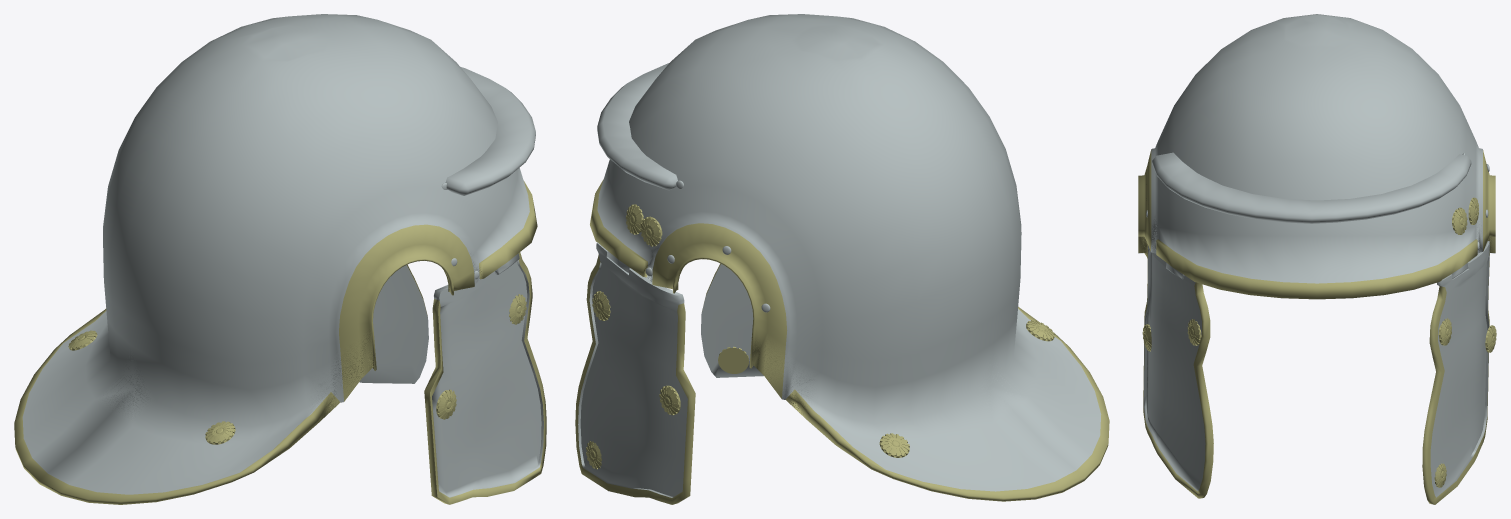
Rendered from romanHelmet.fbx.
3 renders of one model, left to right at view 1: azimuth 30°, elevation 25°; view 2: azimuth 150°, elevation 25°; view 3: azimuth 270°, elevation 25°, orthographic. The views are drawn at different scales.
Parts seen in each view (by area): view 1: Sphere, Cube, Sphere.001, Circle.003; view 2: Sphere, Cube, Sphere.001, Circle.002, Circle.003; view 3: Sphere, Cube, Sphere.001, Circle.001, Circle.005.
Part boxes in pixels (bbox=[...]): Sphere: bbox=[14, 14, 537, 504]; Cube: bbox=[359, 252, 546, 504]; Sphere.001: bbox=[445, 67, 535, 195]; Circle.003: bbox=[68, 330, 235, 444]; Sphere: bbox=[590, 14, 1109, 501]; Cube: bbox=[575, 242, 763, 504]; Sphere.001: bbox=[597, 63, 677, 190]; Circle.002: bbox=[586, 346, 749, 469]; Circle.003: bbox=[879, 320, 1054, 457]; Sphere: bbox=[1138, 14, 1495, 299]; Cube: bbox=[1143, 241, 1489, 504]; Sphere.001: bbox=[1152, 152, 1471, 223]; Circle.001: bbox=[1187, 318, 1451, 345]; Circle.005: bbox=[1142, 324, 1496, 352].
Size of the model in its own units: 263 by 235 by 194.
